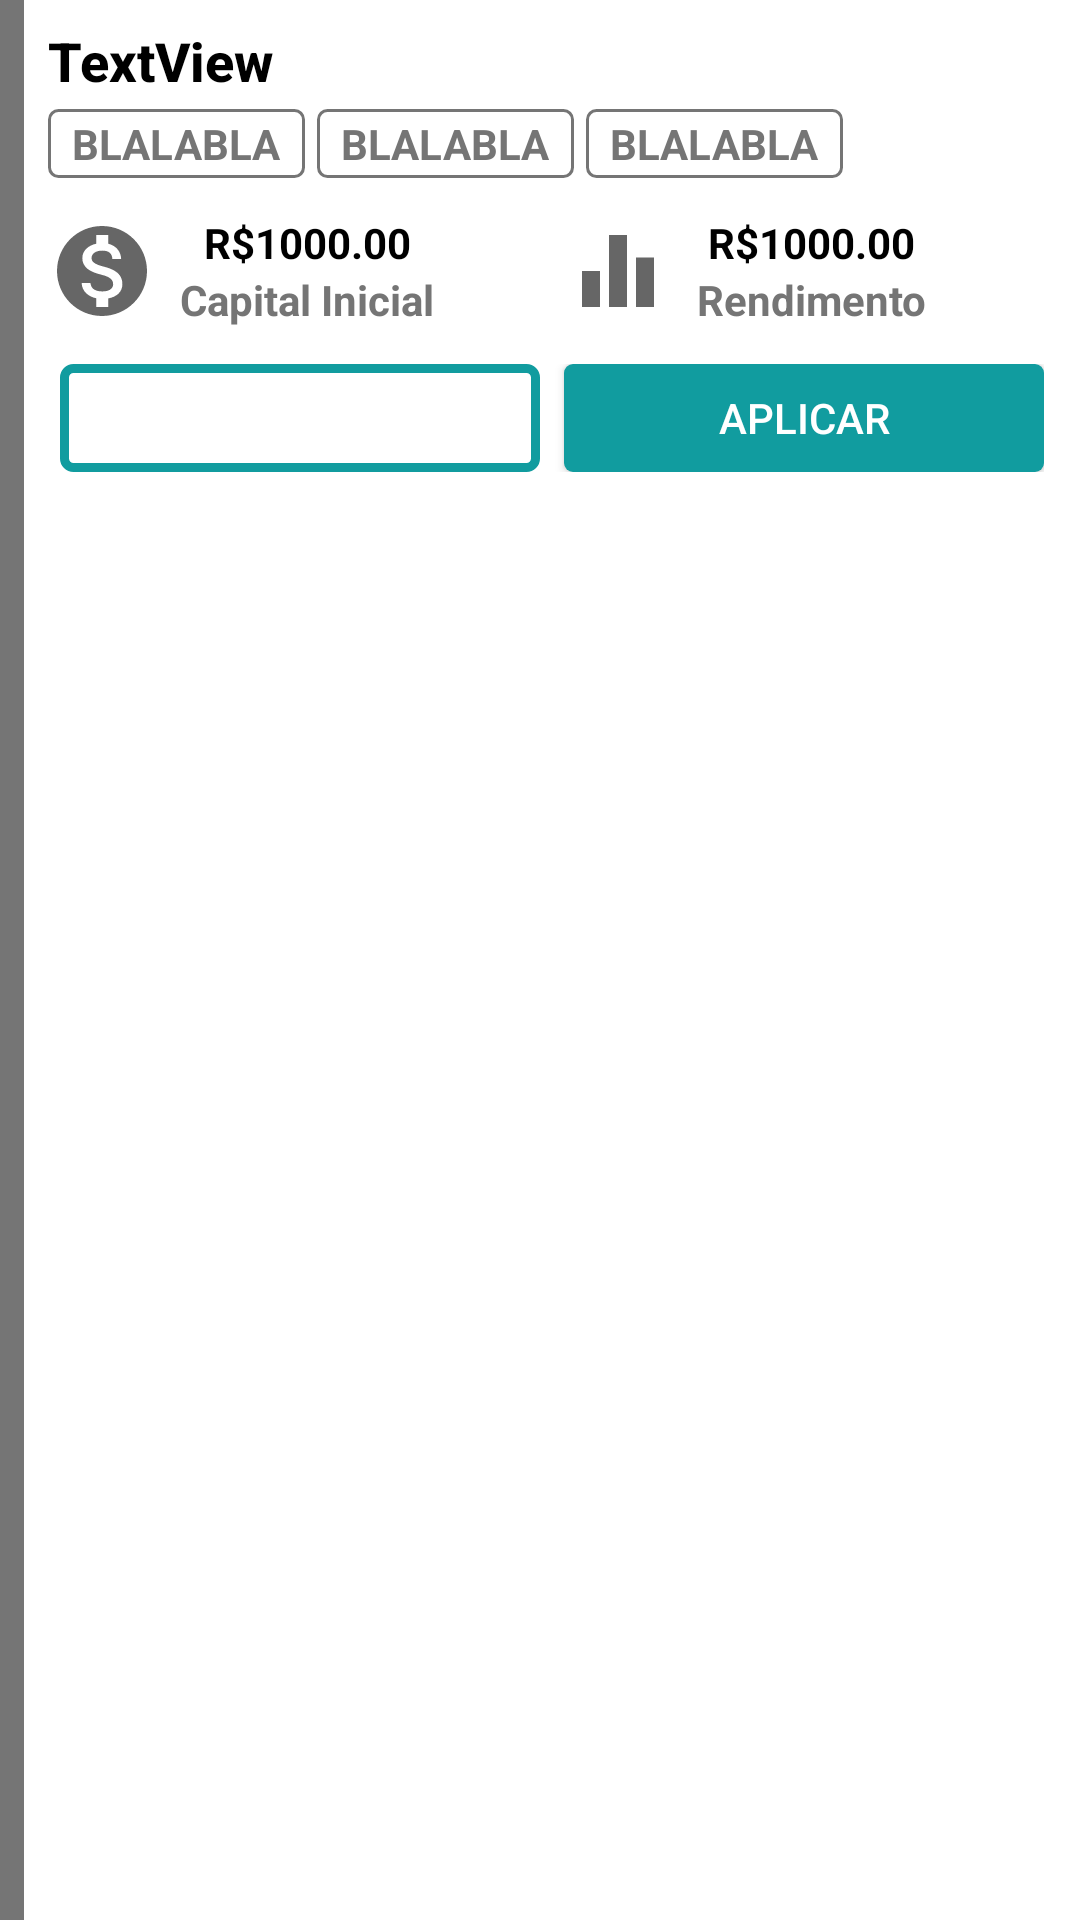

Screen size 1080×1920. Icon name, then its center in pixels as [x,y]:
equalizer: [618,271]
monetization on: [102,271]
